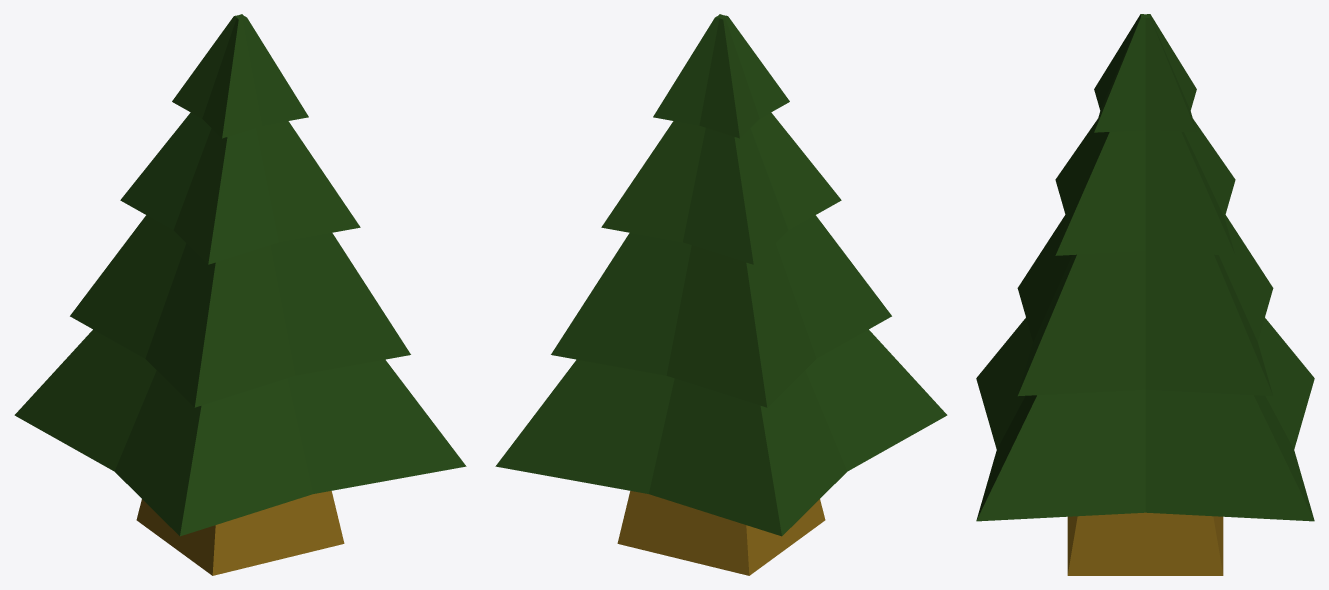
Rendered from pine_tree.glb.
The picture shows the model from 3 angles, left to right: view 1: azimuth 30°, elevation 25°; view 2: azimuth 150°, elevation 25°; view 3: azimuth 270°, elevation 25°; orthographic projection. The views are drawn at different scales.
Parts seen in each view (by area): view 1: pine_tree; view 2: pine_tree; view 3: pine_tree.
Boxes of the visible parts, x1,y1,x2,y2 form: pine_tree: (14, 14, 466, 575); pine_tree: (495, 14, 947, 575); pine_tree: (976, 14, 1314, 575).
Bounding box in the file's own units: 3.22 × 5.53 × 3.22.
Materials: 1 (1 with a texture image).
